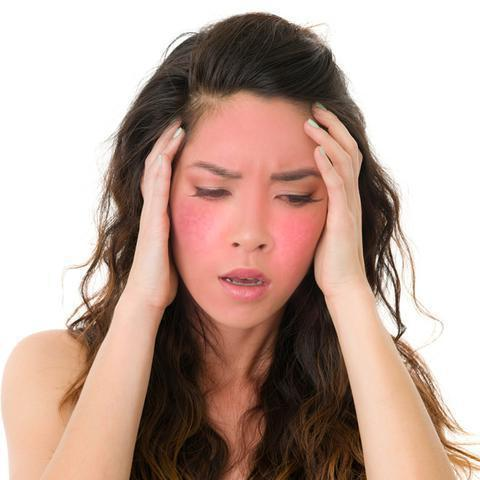Drunk: (174, 111, 318, 320)
